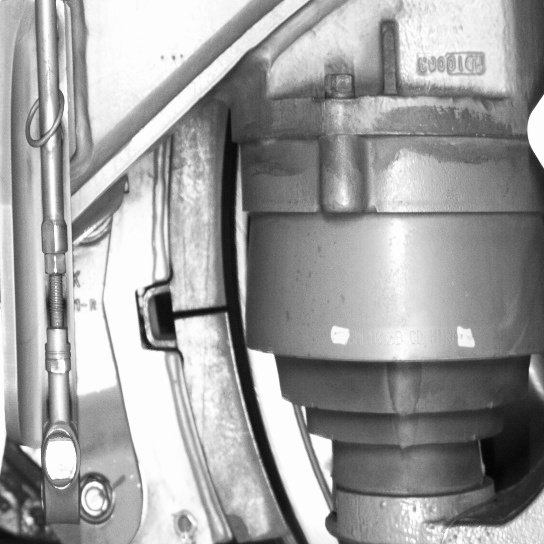KnifeSwitch: (161, 139, 310, 541)
